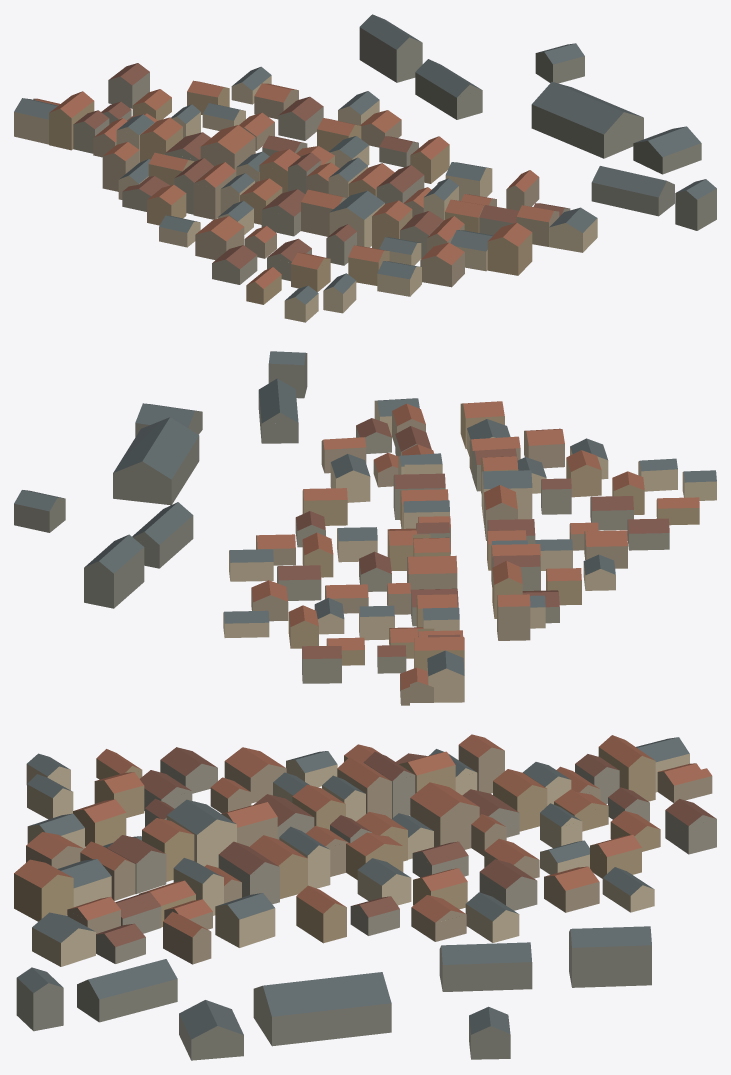
3 views of the same model, one above another, from view 1: azimuth 30°, elevation 25°; view 2: azimuth 150°, elevation 25°; view 3: azimuth 270°, elevation 25° (orthographic). The views are drawn at different scales.
Parts seen in each view (by area): view 1: C_5_-2; view 2: C_5_-2; view 3: C_5_-2.
Boxes of the visible parts, <box> form: C_5_-2: <box>14,14,716,322</box>; C_5_-2: <box>14,351,716,705</box>; C_5_-2: <box>14,734,716,1060</box>.
Size of the model in its own units: 182 by 14.87 by 186.
